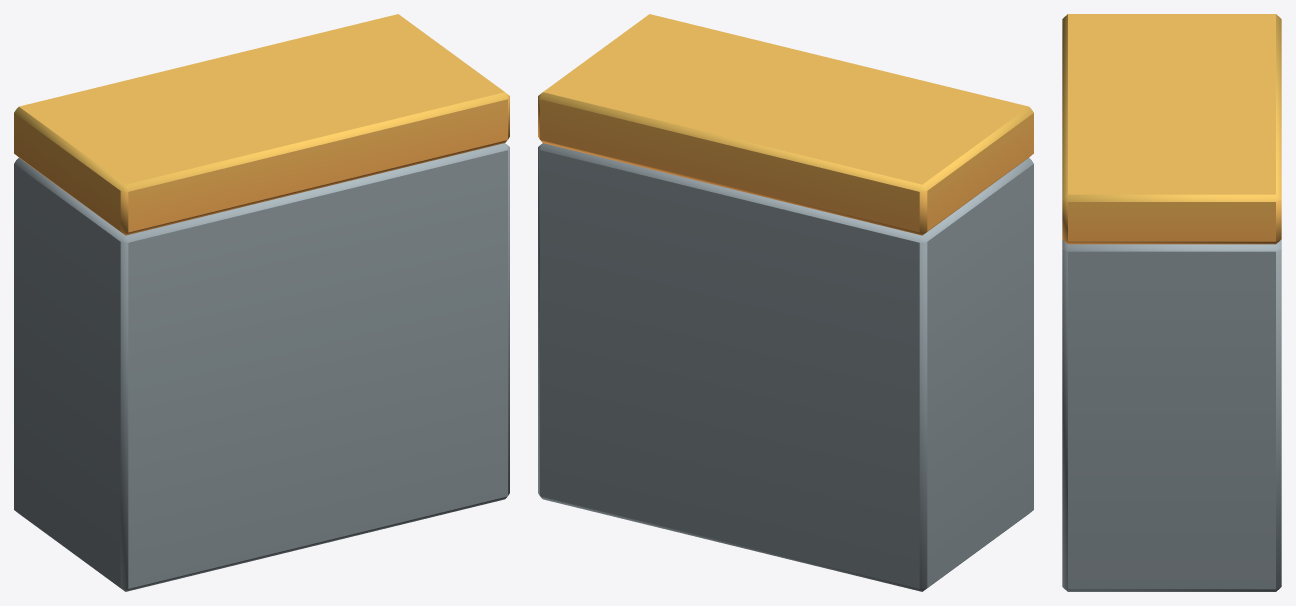
The model's file is kaykit_platform_4x2x4_yellow.glb.
The picture shows the model from 3 angles, left to right: view 1: azimuth 30°, elevation 25°; view 2: azimuth 150°, elevation 25°; view 3: azimuth 270°, elevation 25°; orthographic projection. The views are drawn at different scales.
Visible parts, largest first — view 1: platform_4x2x4_yellow_visual; view 2: platform_4x2x4_yellow_visual; view 3: platform_4x2x4_yellow_visual.
Part boxes in pixels (x1,y1,x2,y2): platform_4x2x4_yellow_visual: (14, 14, 509, 591); platform_4x2x4_yellow_visual: (538, 14, 1033, 591); platform_4x2x4_yellow_visual: (1062, 14, 1281, 591).
Size of what is drawn, in the model's own units: 4 by 4 by 2.
1 material, 1 textured.
